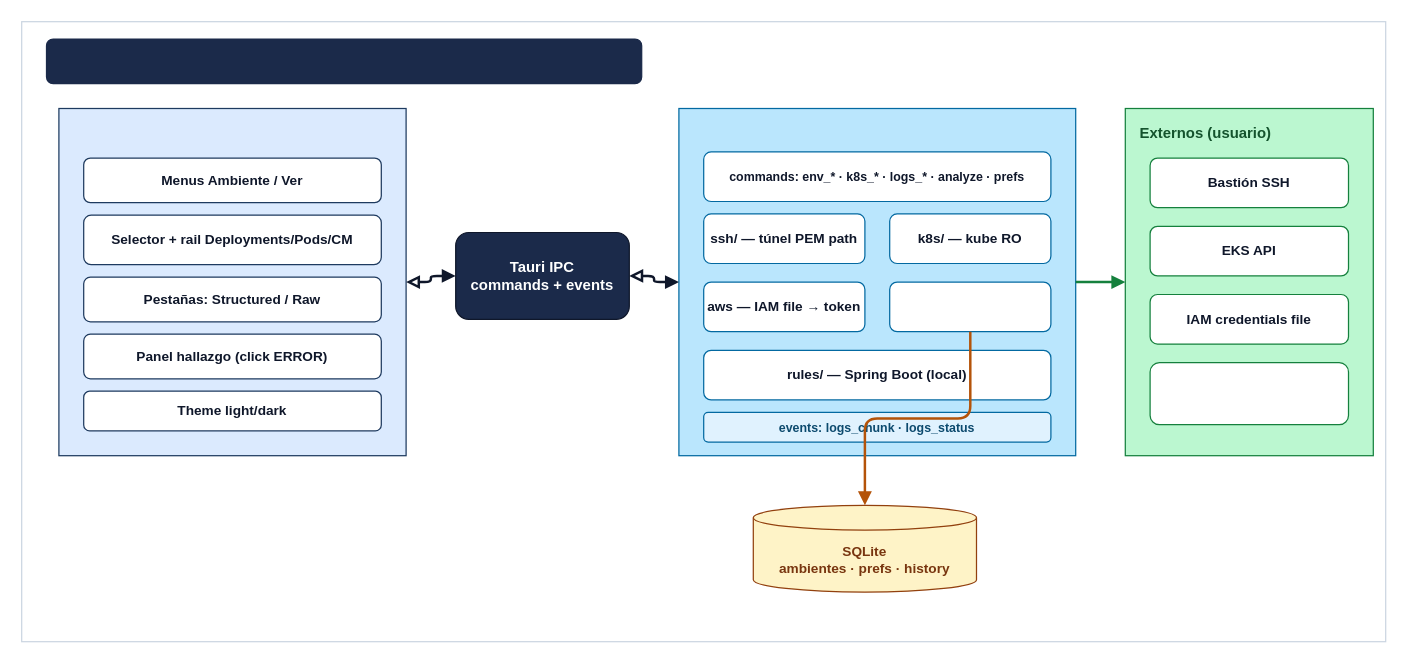
Image size: 1407x663. Some labels were removed from this diagram. Here are the shapes that lost their labels. From the top down, the box of each, then its label:
(45, 38, 642, 84): Faro — Componentes internos (v1)
(58, 107, 406, 456): Frontend (React + TypeScript + Vite)
(678, 107, 1076, 456): Backend Rust (src-tauri)
(888, 281, 1051, 332): db/ — SQLite
(1149, 361, 1348, 425): PEM + region + cluster (paths / ids)
